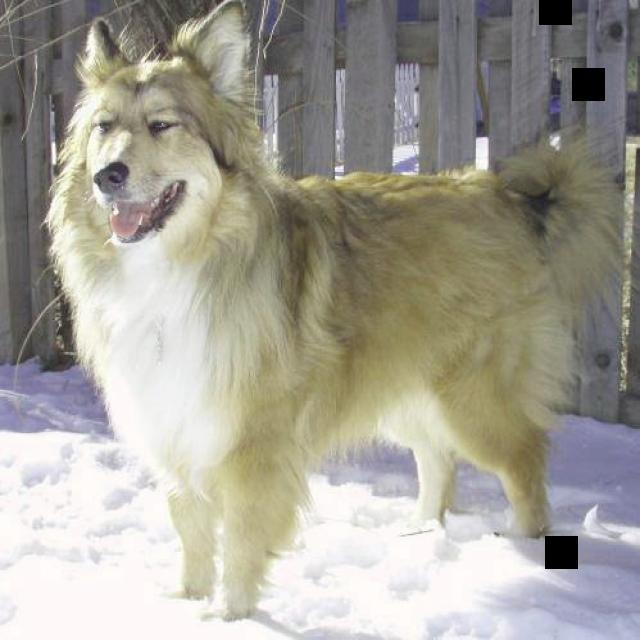adult_dog: (49, 1, 615, 624)
